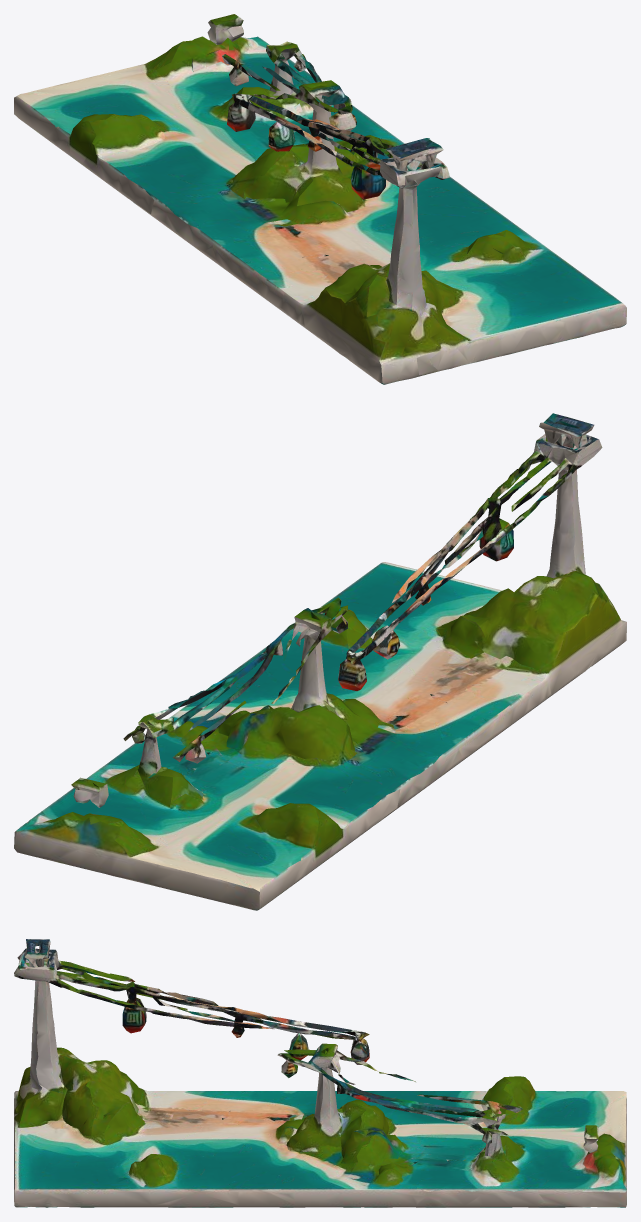
File: hon-thom-cable-car.glb
3 renders of one model, top to bottom at view 1: azimuth 30°, elevation 25°; view 2: azimuth 150°, elevation 25°; view 3: azimuth 270°, elevation 25°, orthographic. The views are drawn at different scales.
Parts seen in each view (by area): view 1: logan-textured.obj; view 2: logan-textured.obj; view 3: logan-textured.obj.
Boxes of the visible parts, left/top/right/bottom form: logan-textured.obj: left=14, top=14, right=626, bottom=384; logan-textured.obj: left=14, top=413, right=626, bottom=910; logan-textured.obj: left=14, top=939, right=626, bottom=1207.
Size of the model in its own units: 0.3859 by 0.3289 by 1.
Materials: 1 (1 with a texture image).
